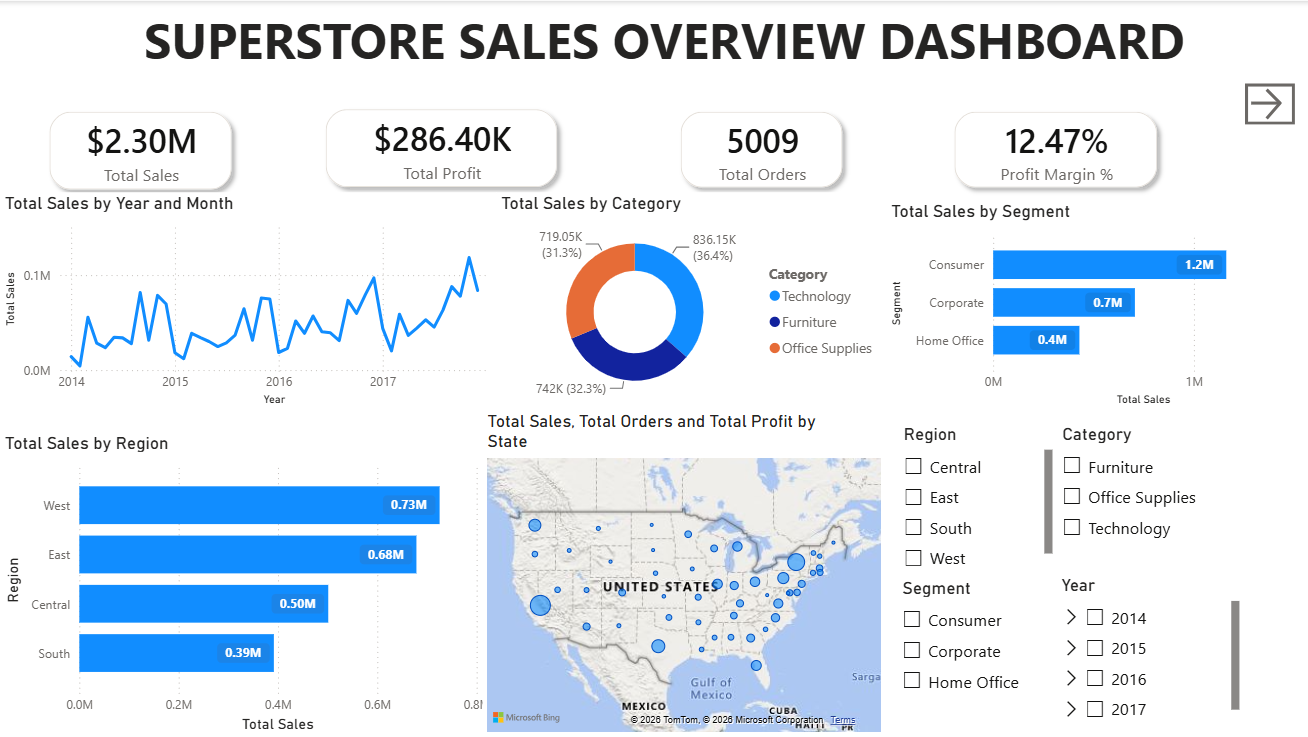

What the dashboard file says about the page in this screenshot:
{"tool":"powerbi","page":{"name":"Sales Overview","canvas":[1280,720],"ordinal":0},"visuals":[{"type":"cardVisual","fields":{"Data":["sales_dataset.Total Sales"]},"box":[19.6,79.5,236,134.5],"z":0},{"type":"cardVisual","fields":{"Data":["sales_dataset.Total Profit"]},"box":[289.8,77,284.9,134.5],"z":1000},{"type":"cardVisual","fields":{"Data":["sales_dataset.Total Orders"]},"box":[637.1,79.5,216.4,132.1],"z":2000},{"type":"cardVisual","fields":{"Data":["sales_dataset.Profit Margin %"]},"box":[904.9,79.5,256.8,132.1],"z":3000},{"type":"textbox","box":[19.6,0,1260.7,80.7],"z":4000},{"type":"lineChart","fields":{"Y":["sales_dataset.Total Sales"],"Category":["sales_dataset.Order Date.Variation.Date Hierarchy.Year","sales_dataset.Order Date.Variation.Date Hierarchy.Month"]},"box":[0,187.1,485.5,214],"z":5000},{"type":"clusteredBarChart","fields":{"Category":["sales_dataset.Region"],"Y":["sales_dataset.Total Sales"]},"box":[0,421.9,485.5,298.4],"z":6000},{"type":"donutChart","fields":{"Category":["sales_dataset.Category"],"Y":["sales_dataset.Total Sales"]},"box":[485.5,187.1,381.5,214],"z":7000},{"type":"clusteredBarChart","fields":{"Category":["sales_dataset.Segment"],"Y":["sales_dataset.Total Sales"]},"box":[867,195.7,413.3,205.4],"z":8000},{"type":"map","fields":{"Category":["sales_dataset.State"],"Size":["sales_dataset.Total Sales"]},"box":[472,401.1,395,319.2],"z":9000},{"type":"actionButton","box":[1217.9,80.7,48.9,40.4],"z":10000},{"type":"listSlicer","fields":{"Values":["sales_dataset.Region"]},"box":[879.2,413.3,155.3,144.3],"z":11000},{"type":"listSlicer","fields":{"Values":["sales_dataset.Category"]},"box":[1034.5,413.3,184.6,139.4],"z":12000},{"type":"listSlicer","fields":{"Values":["sales_dataset.Segment"]},"box":[878,563.7,155.3,144.3],"z":13000},{"type":"listSlicer","fields":{"Values":["sales_dataset.Order Date.Variation.Date Hierarchy.Year","sales_dataset.Order Date.Variation.Date Hierarchy.Month","sales_dataset.Order Date.Variation.Date Hierarchy.Day"]},"box":[1033.3,561.3,184.6,149.2],"z":14000}]}

Visuals, with their boxes in screenshot pixels (x1, y1, x2, y2), scaled from the page's 1280x720 canvas onto the 1308x737 screenshot:
cardVisual - sales_dataset.Total Sales: rect(20, 81, 261, 219)
cardVisual - sales_dataset.Total Profit: rect(296, 79, 587, 216)
cardVisual - sales_dataset.Total Orders: rect(651, 81, 872, 217)
cardVisual - sales_dataset.Profit Margin %: rect(925, 81, 1187, 217)
textbox: rect(20, 0, 1307, 83)
lineChart - sales_dataset.Total Sales x sales_dataset.Order Date.Variation.Date Hierarchy.Year: rect(0, 192, 496, 411)
clusteredBarChart - sales_dataset.Region x sales_dataset.Total Sales: rect(0, 432, 496, 736)
donutChart - sales_dataset.Category x sales_dataset.Total Sales: rect(496, 192, 886, 411)
clusteredBarChart - sales_dataset.Segment x sales_dataset.Total Sales: rect(886, 200, 1307, 411)
map - sales_dataset.State x sales_dataset.Total Sales: rect(482, 411, 886, 736)
actionButton: rect(1245, 83, 1295, 124)
listSlicer - sales_dataset.Region: rect(898, 423, 1057, 571)
listSlicer - sales_dataset.Category: rect(1057, 423, 1246, 566)
listSlicer - sales_dataset.Segment: rect(897, 577, 1056, 725)
listSlicer - sales_dataset.Order Date.Variation.Date Hierarchy.Year x sales_dataset.Order Date.Variation.Date Hierarchy.Month: rect(1056, 575, 1245, 727)
